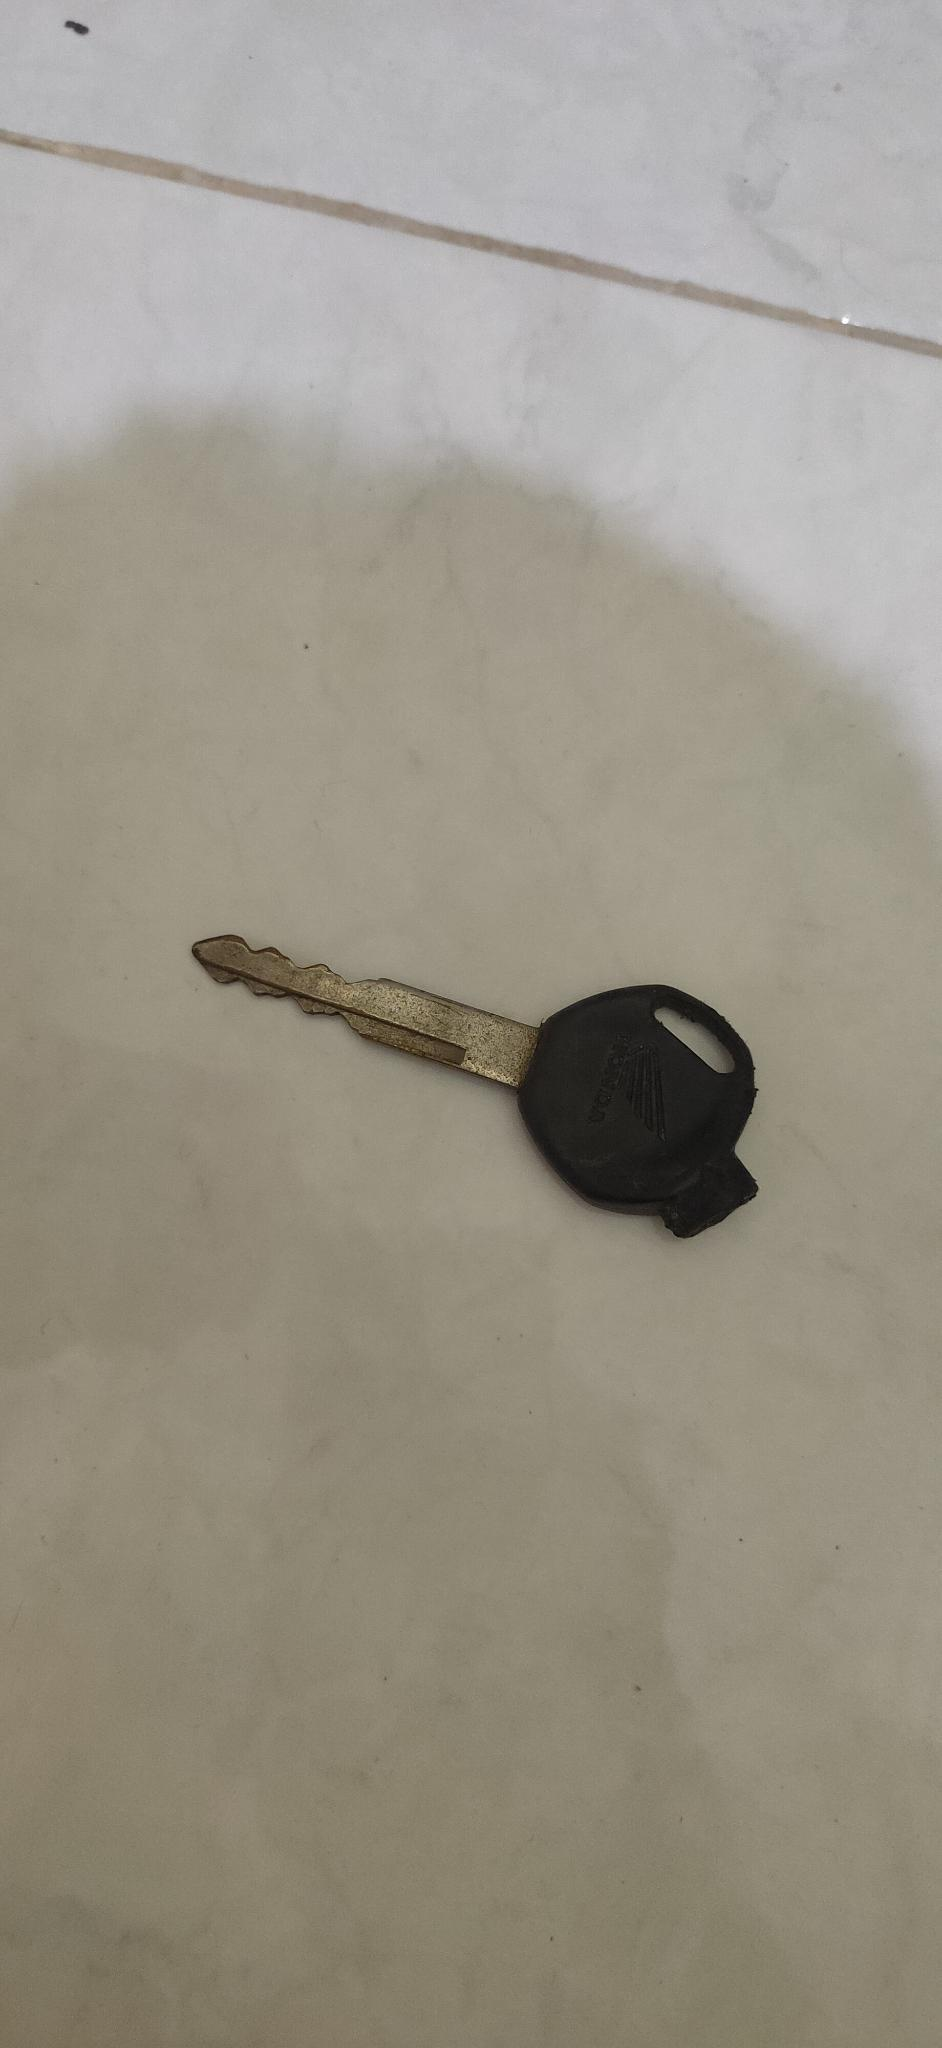keys: (166, 876, 794, 1280)
